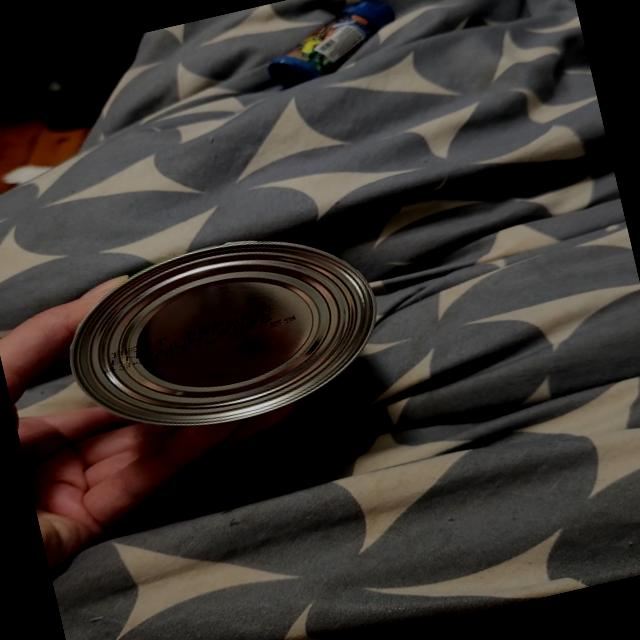nestle_milo_tin: (69, 241, 375, 425)
